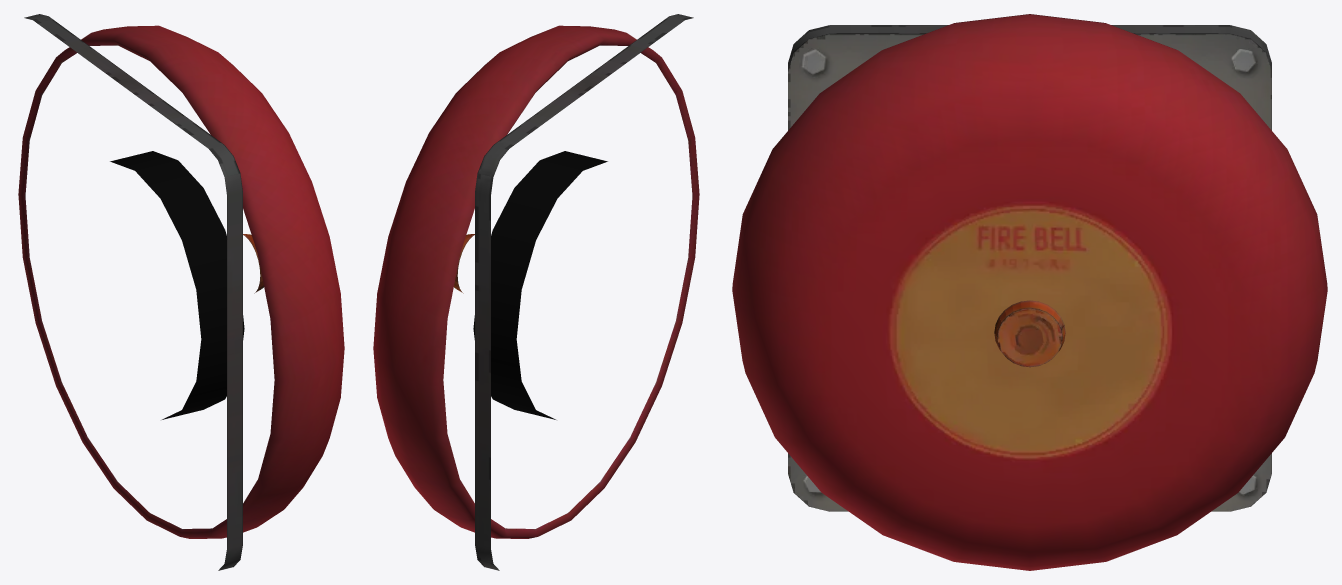
3 renders of one model, left to right at view 1: azimuth 30°, elevation 25°; view 2: azimuth 150°, elevation 25°; view 3: azimuth 270°, elevation 25°, orthographic. The views are drawn at different scales.
Visible parts, largest first — view 1: body0_model0_lod0_mesh0; view 2: body0_model0_lod0_mesh0; view 3: body0_model0_lod0_mesh0.
Part boxes in pixels (x1,y1,x2,y2): body0_model0_lod0_mesh0: (18, 14, 344, 570); body0_model0_lod0_mesh0: (373, 14, 699, 570); body0_model0_lod0_mesh0: (732, 14, 1327, 570).
Size of the model in its own units: 7.67 by 26.19 by 26.19.
Materials: 1 (1 with a texture image).
